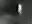person: (18, 4, 24, 17)
